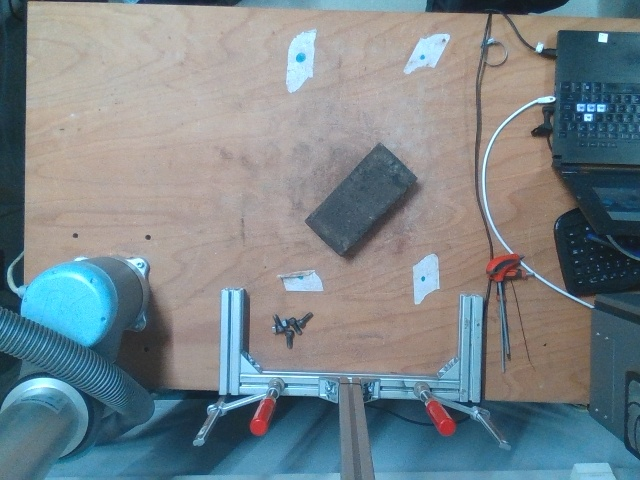brick: (303, 142, 415, 257)
